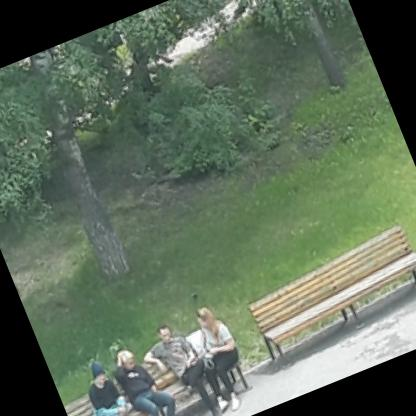Human Body: (126, 311, 235, 415), (171, 297, 261, 415), (100, 333, 195, 415), (69, 351, 155, 415)
